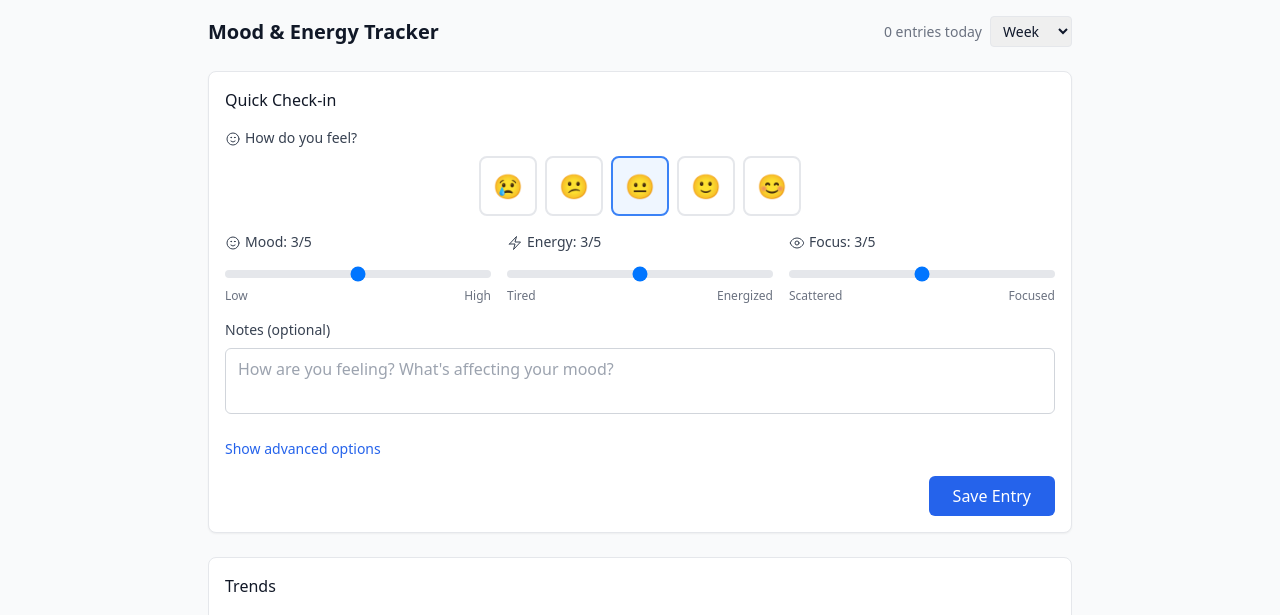
MoodEnergyTracker › should update slider values
The width and height of the screenshot is (1280, 615).
Set the slider named "Mood level" to "4". click: coordinates (420, 274)
box: top-left (225, 270), bottom-right (491, 278)
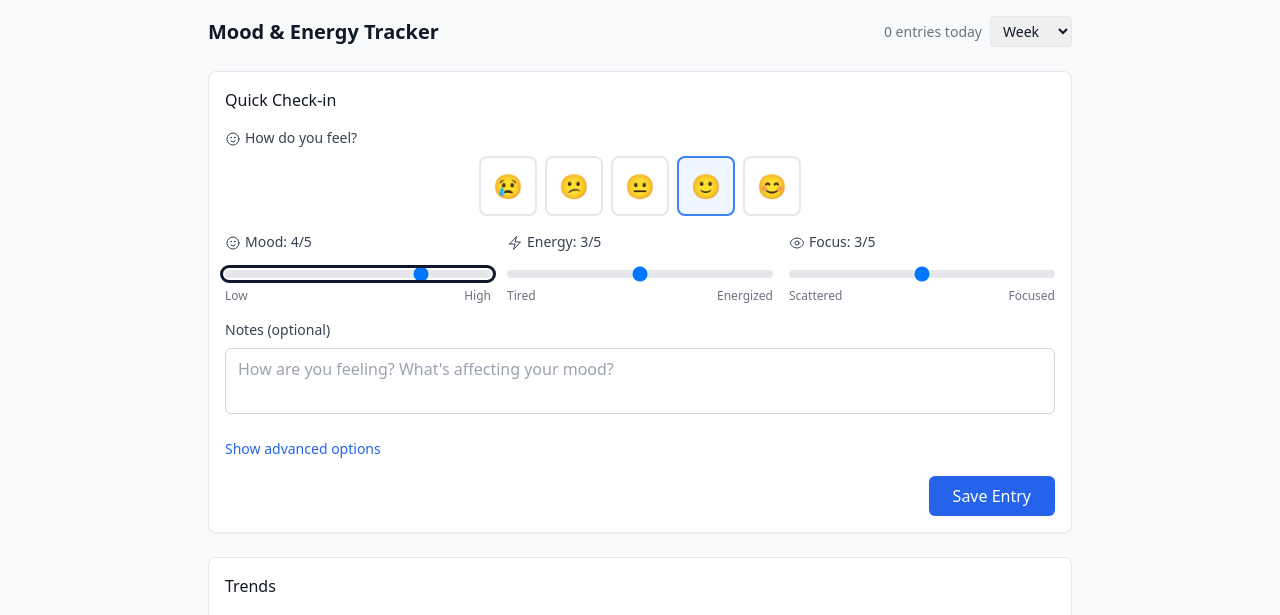
Expected: the text "Mood: 4/5" is shown, top-left (225, 232), bottom-right (312, 251)
